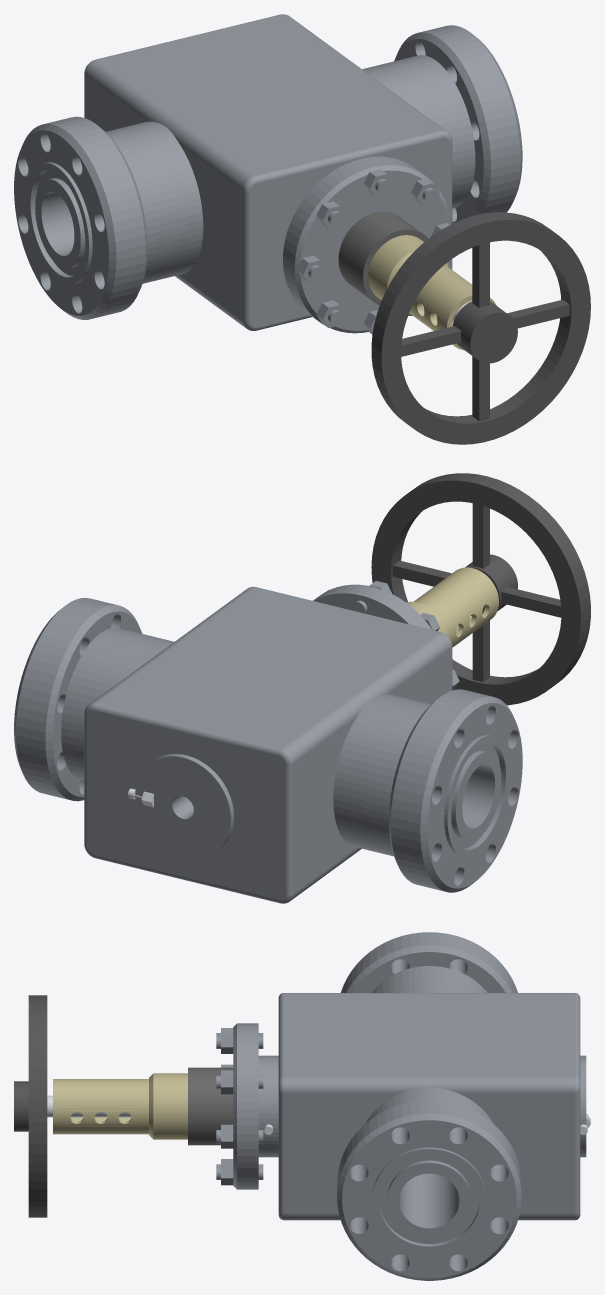
Rendered from WH-GATEVALVE.4-10K.glb.
The picture shows the model from 3 angles, top to bottom: view 1: azimuth 30°, elevation 25°; view 2: azimuth 150°, elevation 25°; view 3: azimuth 270°, elevation 25°; orthographic projection. The views are drawn at different scales.
Visible parts, largest first — view 1: WH-GATEVALVE-BODY, WH-GATEVALVE-HANDWHEEL, WH-GATEVALVE-FLANGE-IN, WH-GATEVALVE-BONNET, WH-GATEVALVE-FLANGE-OUT, WH-GATEVALVE-BEARING, WH-GATEVALVE-PACKING; view 2: WH-GATEVALVE-BODY, WH-GATEVALVE-FLANGE-IN, WH-GATEVALVE-HANDWHEEL, WH-GATEVALVE-FLANGE-OUT, WH-GATEVALVE-BEARING, WH-GATEVALVE-BONNET; view 3: WH-GATEVALVE-BODY, WH-GATEVALVE-FLANGE-OUT, WH-GATEVALVE-BEARING, WH-GATEVALVE-BONNET, WH-GATEVALVE-FLANGE-IN, WH-GATEVALVE-HANDWHEEL, WH-GATEVALVE-PACKING.
Boxes of the visible parts, left/top/right/bottom form: WH-GATEVALVE-BODY: left=84, top=14, right=475, bottom=330; WH-GATEVALVE-HANDWHEEL: left=371, top=212, right=590, bottom=444; WH-GATEVALVE-FLANGE-IN: left=14, top=116, right=147, bottom=319; WH-GATEVALVE-BONNET: left=283, top=156, right=450, bottom=334; WH-GATEVALVE-FLANGE-OUT: left=394, top=25, right=522, bottom=223; WH-GATEVALVE-BEARING: left=368, top=235, right=496, bottom=349; WH-GATEVALVE-PACKING: left=338, top=211, right=428, bottom=305; WH-GATEVALVE-BODY: left=61, top=586, right=452, bottom=903; WH-GATEVALVE-FLANGE-IN: left=389, top=689, right=522, bottom=892; WH-GATEVALVE-HANDWHEEL: left=371, top=473, right=590, bottom=705; WH-GATEVALVE-FLANGE-OUT: left=14, top=598, right=142, bottom=801; WH-GATEVALVE-BEARING: left=406, top=567, right=498, bottom=647; WH-GATEVALVE-BONNET: left=313, top=581, right=459, bottom=690; WH-GATEVALVE-BODY: left=258, top=966, right=586, bottom=1220; WH-GATEVALVE-FLANGE-OUT: left=337, top=1100, right=521, bottom=1280; WH-GATEVALVE-BEARING: left=53, top=1073, right=187, bottom=1139; WH-GATEVALVE-BONNET: left=216, top=1023, right=263, bottom=1189; WH-GATEVALVE-FLANGE-IN: left=340, top=932, right=517, bottom=992; WH-GATEVALVE-HANDWHEEL: left=14, top=995, right=47, bottom=1217; WH-GATEVALVE-PACKING: left=188, top=1067, right=233, bottom=1145.
Bounding box in the file's own units: 0.762 × 0.3793 × 0.9843.
